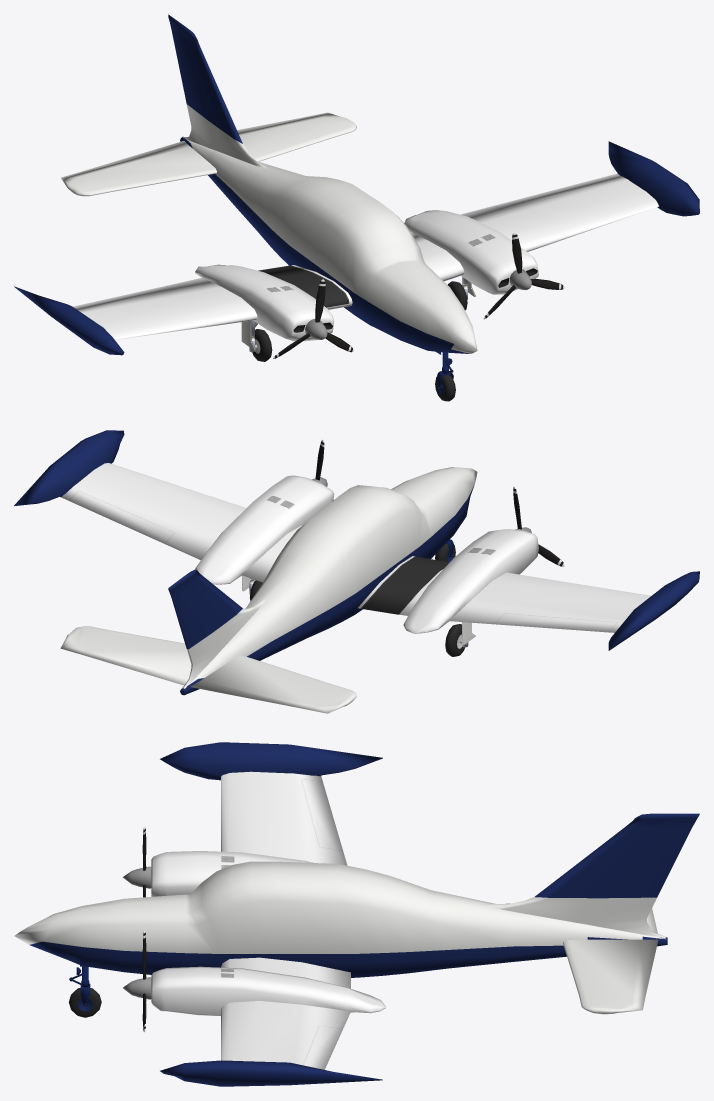
The model's file is cessna310.livery-v1.lod0.glb.
The picture shows the model from 3 angles, top to bottom: view 1: azimuth 30°, elevation 25°; view 2: azimuth 150°, elevation 25°; view 3: azimuth 270°, elevation 25°; orthographic projection. The views are drawn at different scales.
Parts seen in each view (by area): view 1: Cube__0, Engine_Texture2_0, Prop1_PropellorTexture_0; view 2: Cube__0, Engine_Texture2_0, Prop1_PropellorTexture_0; view 3: Cube__0, Engine_Texture2_0.
Part boxes in pixels (bbox=[...]): Cube__0: bbox=[14, 14, 699, 401]; Engine_Texture2_0: bbox=[73, 173, 658, 341]; Prop1_PropellorTexture_0: bbox=[273, 232, 564, 358]; Cube__0: bbox=[14, 430, 699, 713]; Engine_Texture2_0: bbox=[60, 463, 650, 633]; Prop1_PropellorTexture_0: bbox=[315, 439, 564, 566]; Cube__0: bbox=[14, 742, 699, 1086]; Engine_Texture2_0: bbox=[151, 771, 385, 1069].
Bounding box in the file's own units: 11.3 × 3.26 × 9.97.
Materials: 4 (2 with a texture image).
